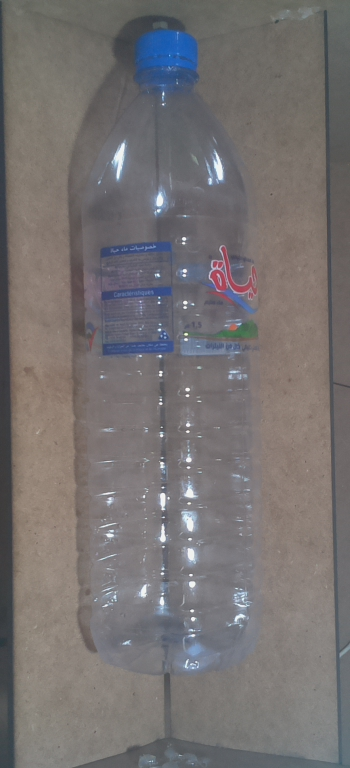Bouteille_1.5L: (71, 16, 276, 689)
